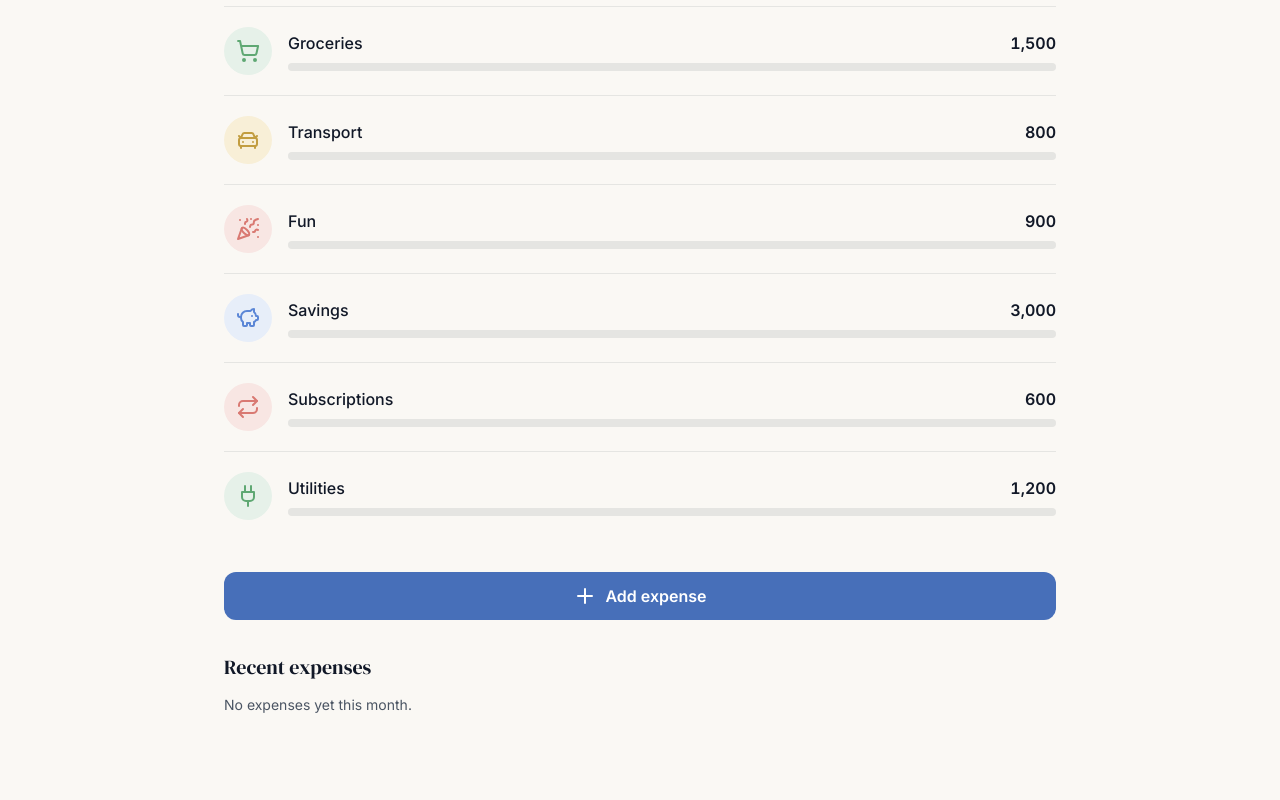
Test: qa-add-expense › QA-CC-33: a failed save keeps the dialog open with all values and an error alert, offering Retry
(page scrolled)
Click the button "Add expense": click(640, 596) [224,572,1056,620]
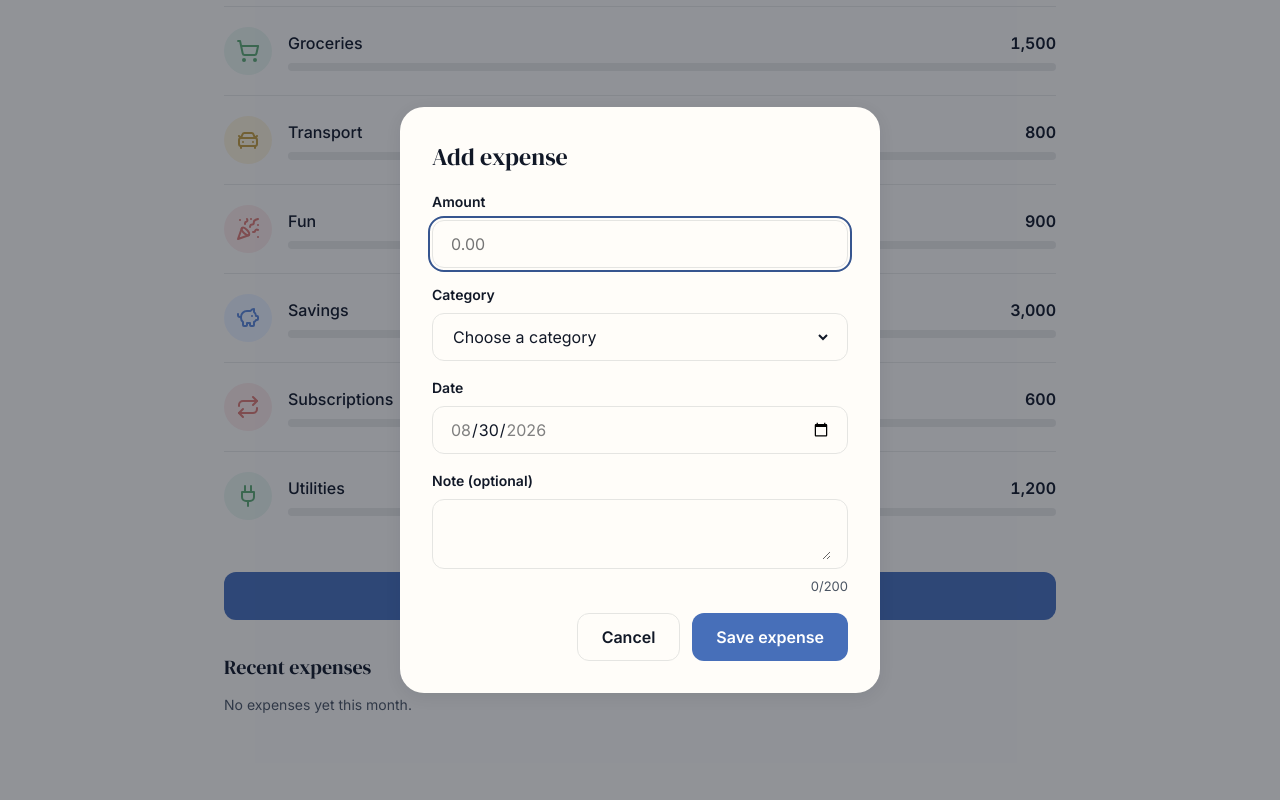
Now the dialog "Add expense" is shown, box [400,107,880,693]
In the field labelled "Amount": (640, 244) [449,231,831,257], type "42.50"
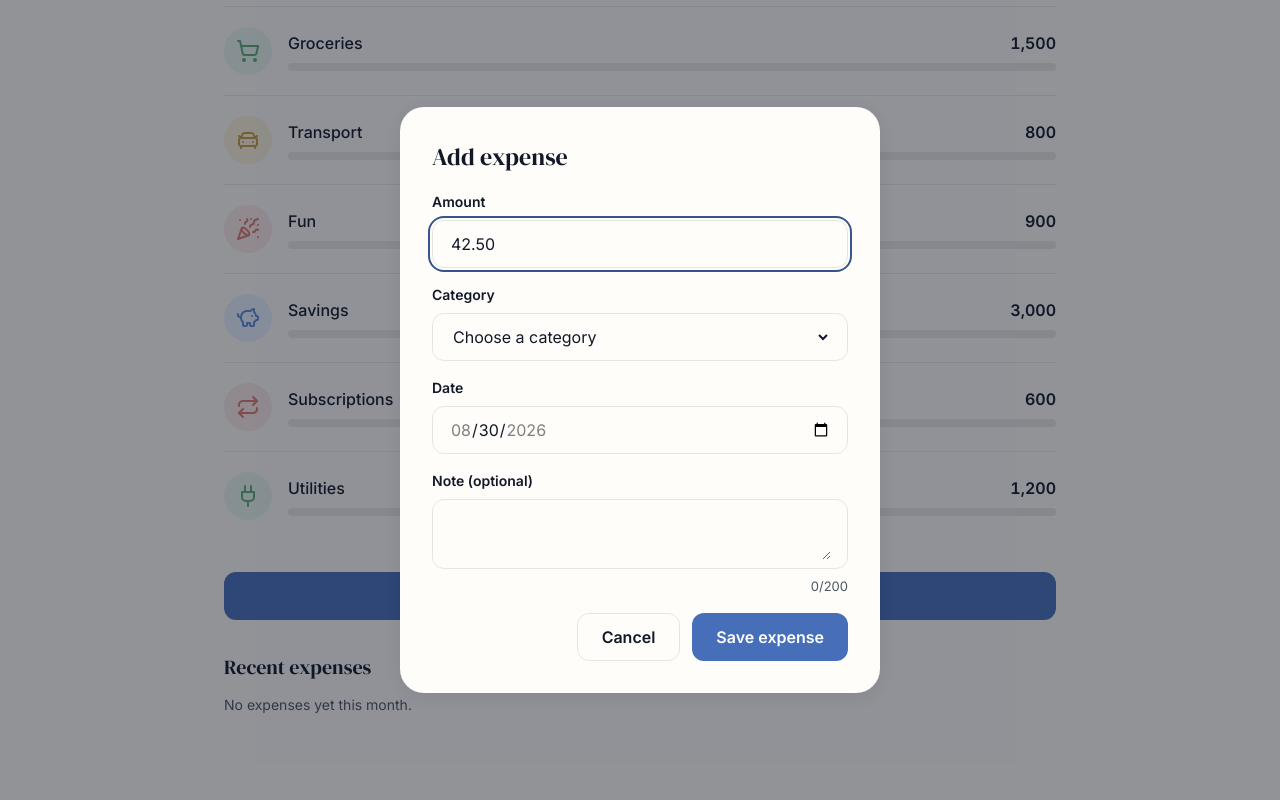
Select "Groceries" in the dropdown labelled "Category": (640, 337) [449,314,831,360]
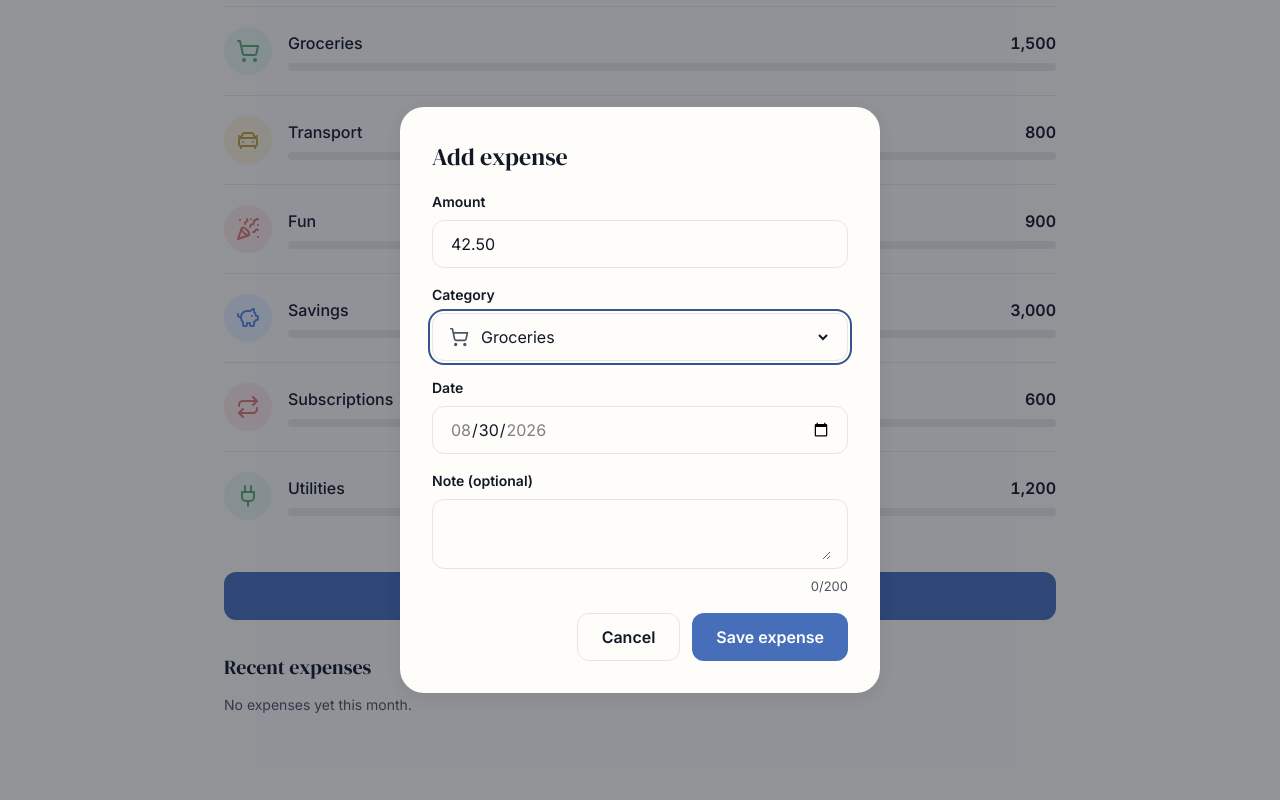
In the text box labelled "Note (optional)": (640, 534) [449,508,831,560], type "keep me"
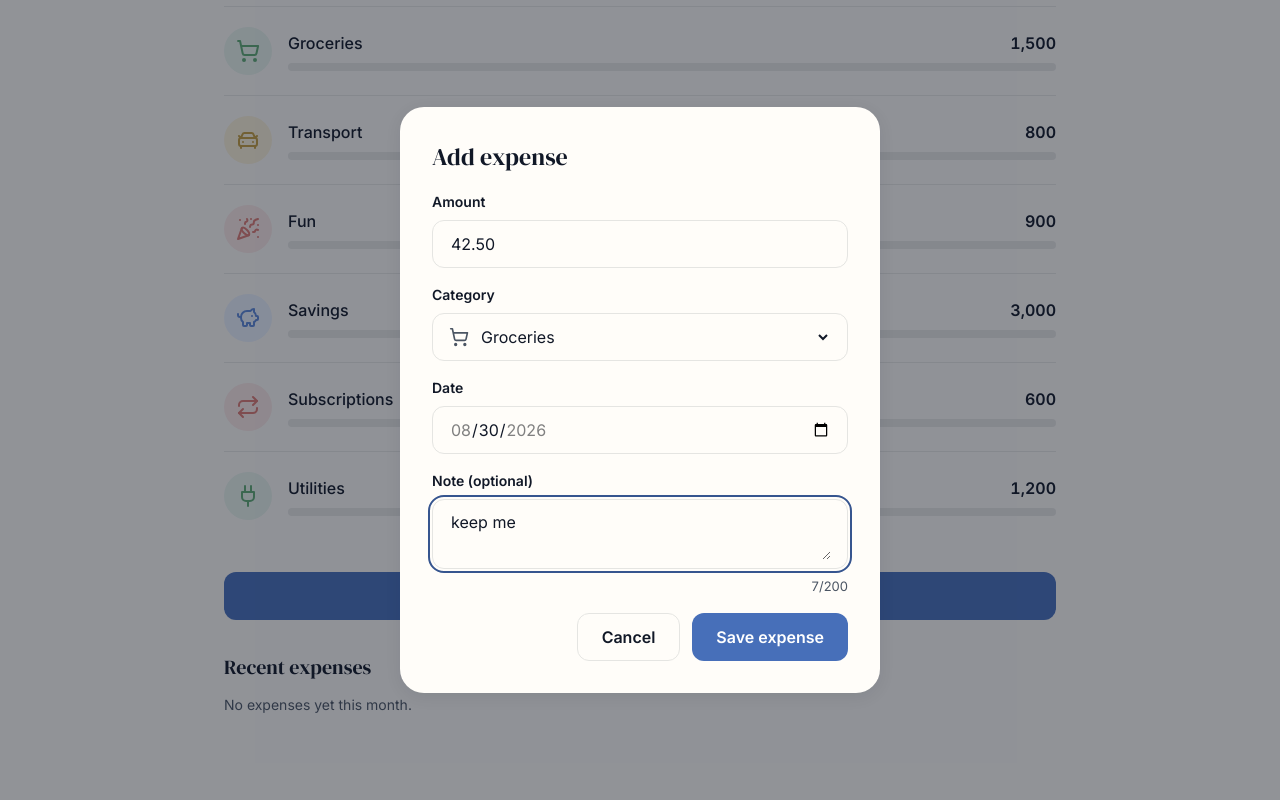
Click the button "Save expense": click(770, 637) [692,613,848,661]
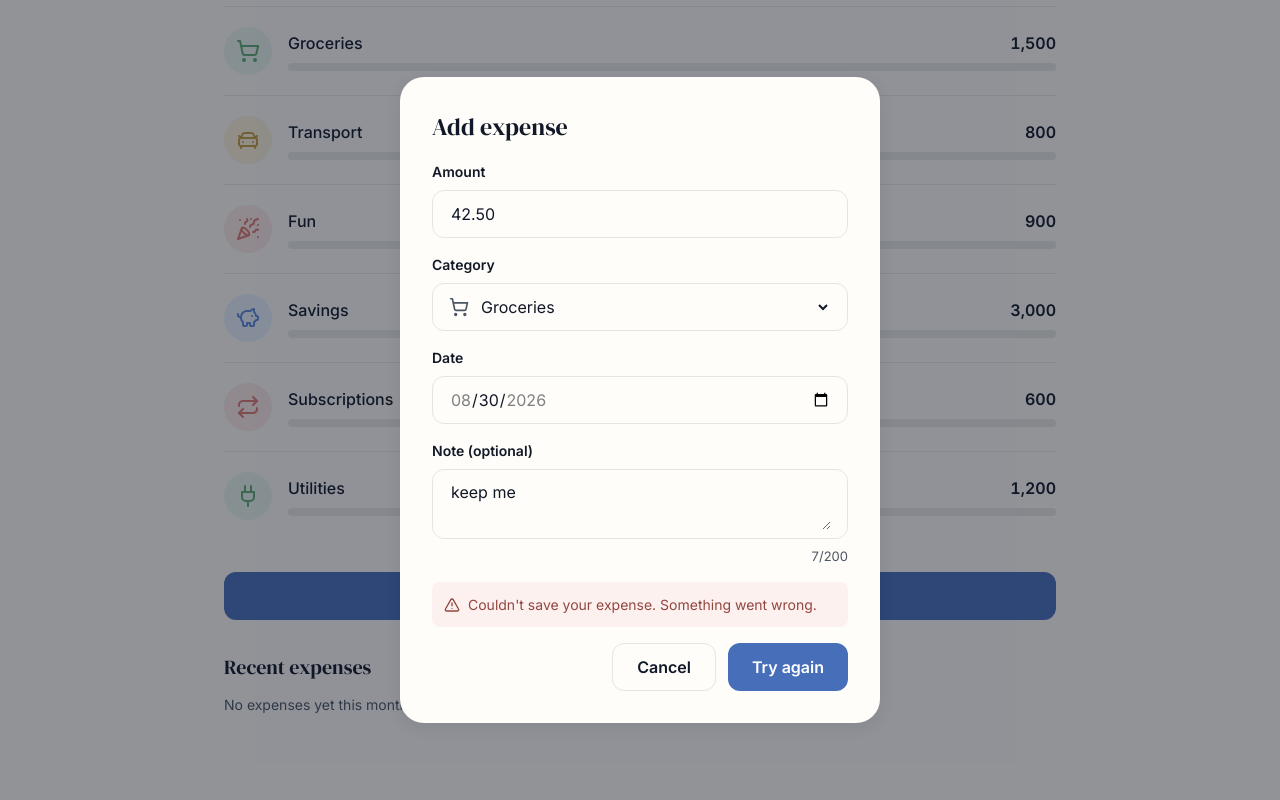
Now the text "Couldn't save your expense. Something went wrong." is shown, box [468,594,817,615]
Now the button "Try again" is shown, box [728,643,848,691]
